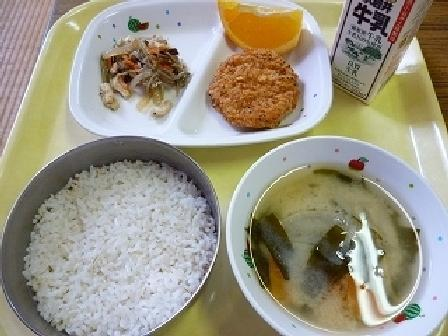Citrus: (205, 4, 310, 61)
Milk: (317, 0, 433, 95)
Rice: (0, 131, 229, 334)
Soups: (237, 141, 443, 334)
cutlet: (213, 45, 309, 132)
salad with sauce: (89, 29, 187, 125)
